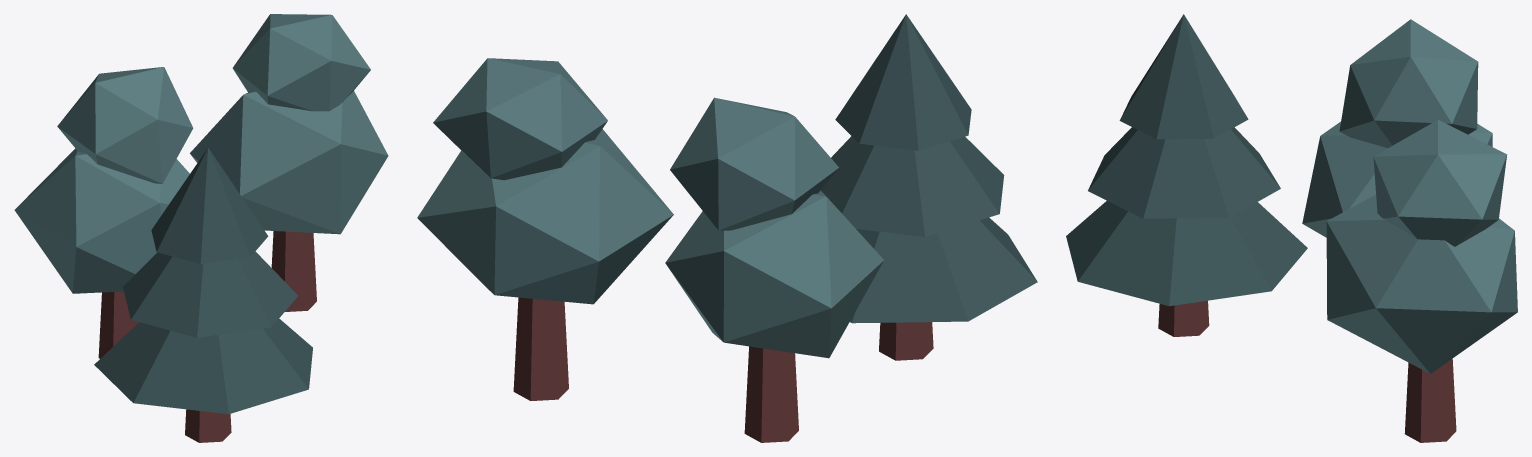
File: grove9.glb
3 renders of one model, left to right at view 1: azimuth 30°, elevation 25°; view 2: azimuth 150°, elevation 25°; view 3: azimuth 270°, elevation 25°, orthographic. The views are drawn at different scales.
Parts seen in each view (by area): view 1: grove9; view 2: grove9; view 3: grove9.
Part boxes in pixels (<box>): grove9: <box>14,14,388,442</box>; grove9: <box>417,14,1037,442</box>; grove9: <box>1066,14,1517,442</box>.
Bounding box in the file's own units: 1.28 × 0.945 × 1.24.
